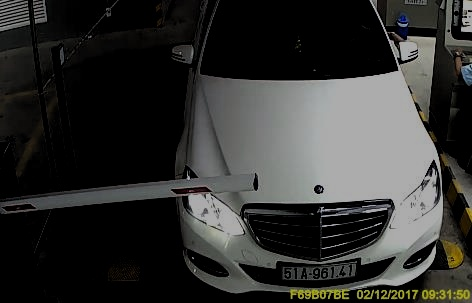plate: (274, 259, 359, 286)
